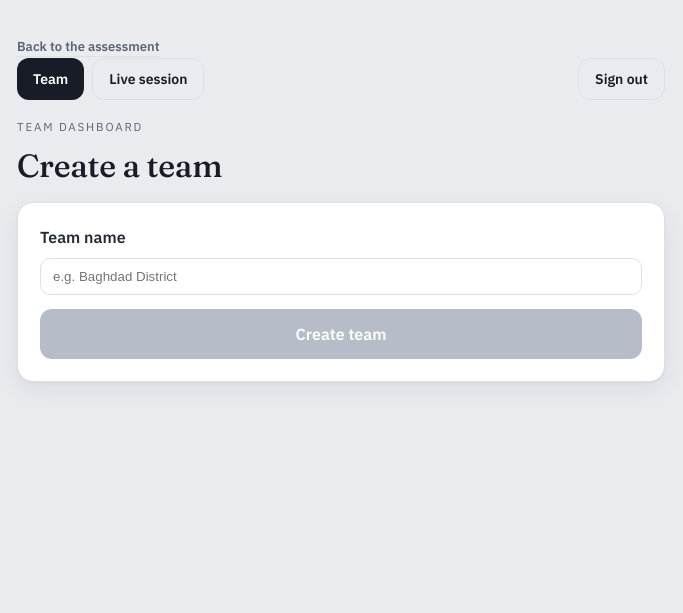
ManagerApp › refreshes the summary and computes the imbalance flag
In the field with placeholder "e.g. Baghdad District": {"x": 341, "y": 277} [40,258,642,295], type "District A"
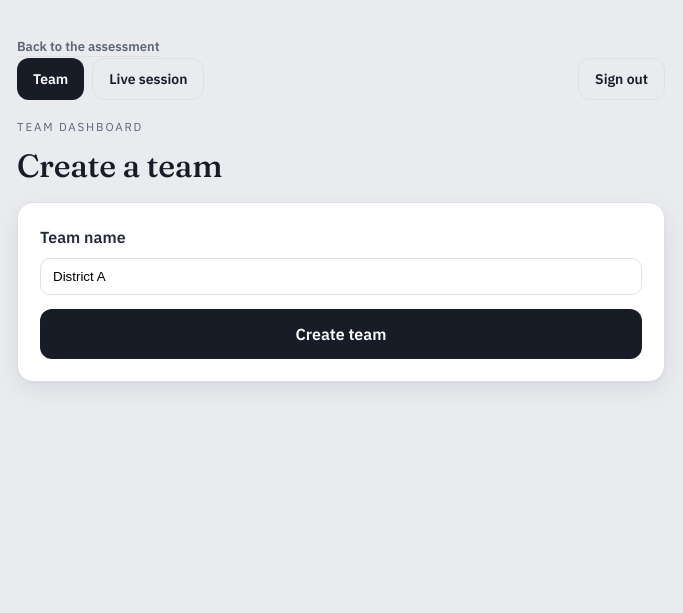
Click the button "Create team": {"x": 341, "y": 334} [40,309,642,359]
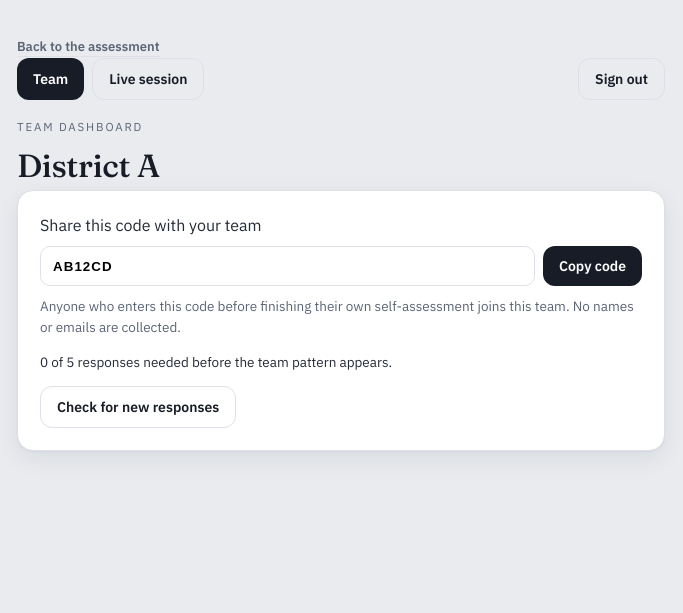
Check: the field showing "AB12CD" is shown, box [40,246,535,286]
Click the button "Check for new responses": {"x": 138, "y": 407} [40,386,236,428]
(page scrolled)
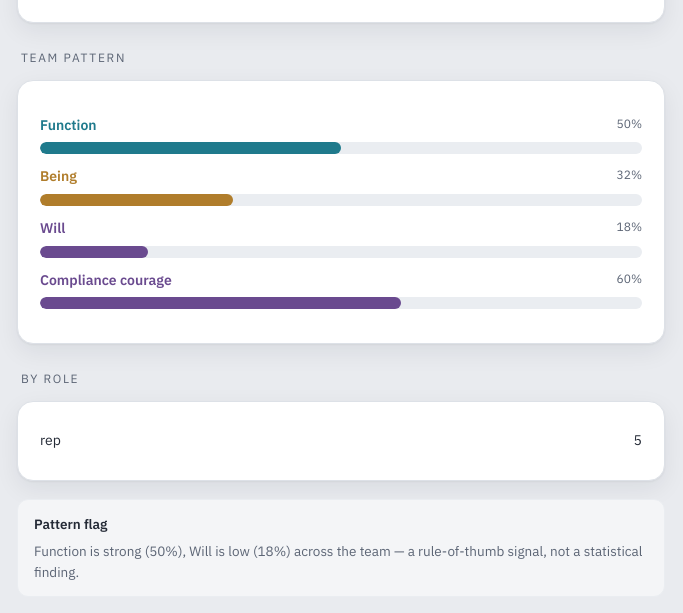
Check: the text "Function is strong (50%), Will is low (18%) across the team — a rule-of-thumb signal, not a statistical finding." is shown, box [34,542,642,580]
